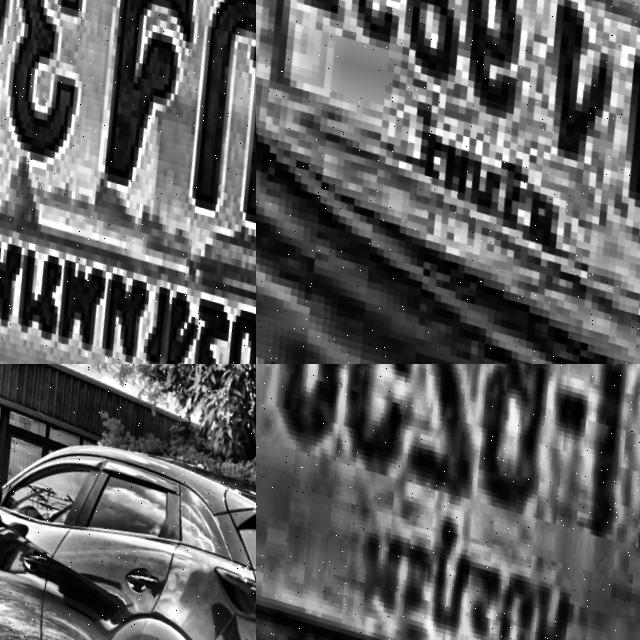license-plate: (256, 0, 640, 364), (256, 364, 640, 640), (0, 0, 256, 364)
